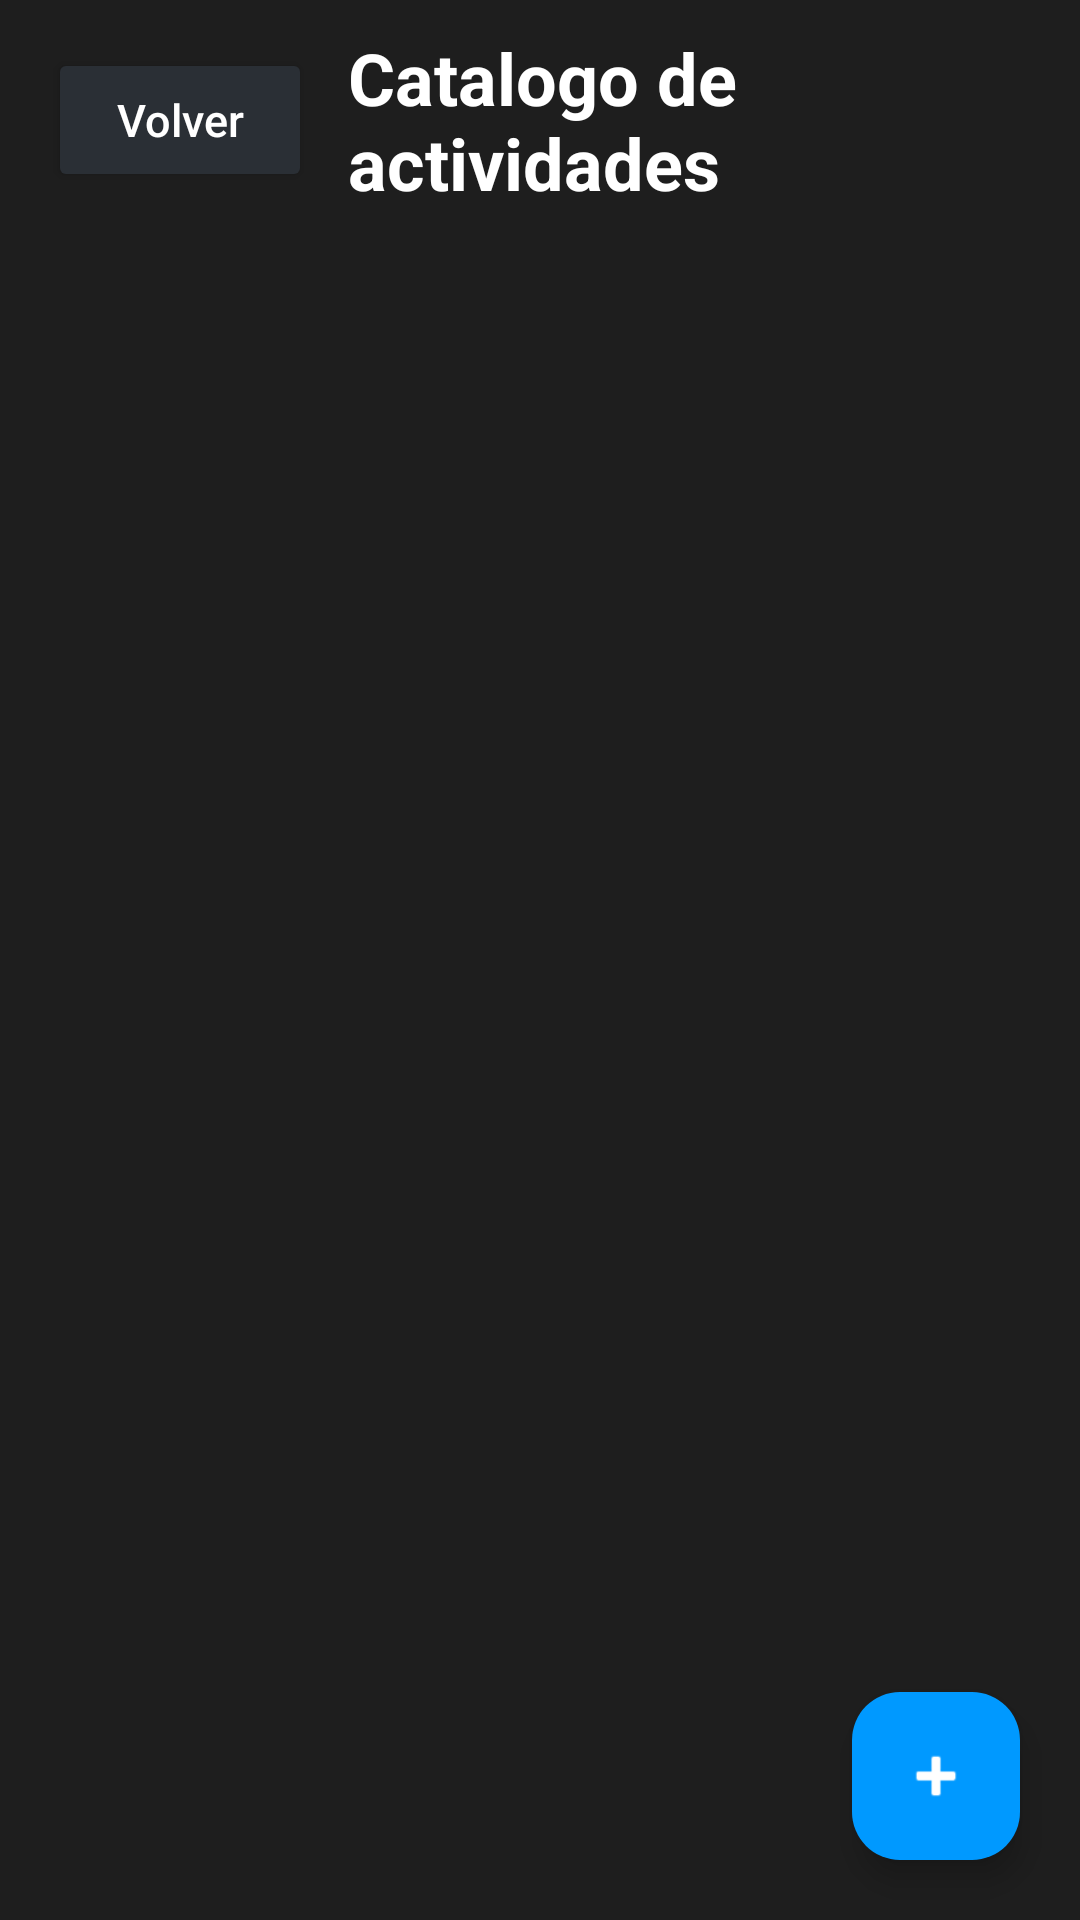

Named icons in this screenshot (1080px×1920px) and their bounding boxes, (x1, y1, x2, y2):
Agregar actividad: (852, 1692, 1020, 1860)
